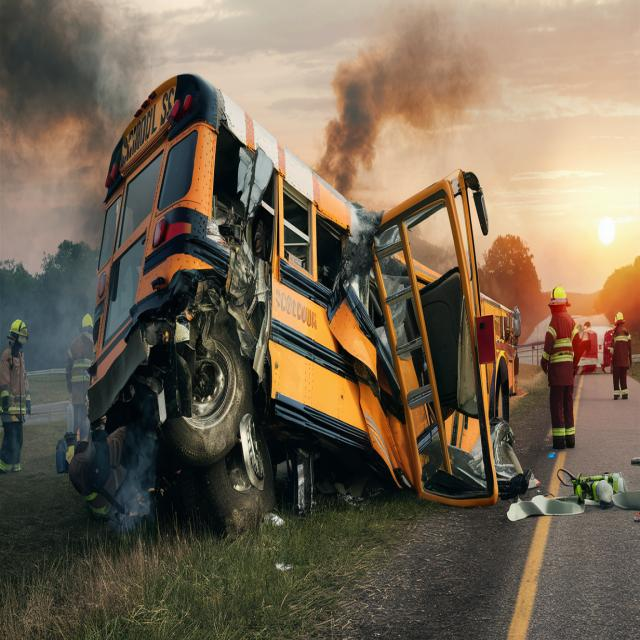Accident: (53, 71, 531, 517)
